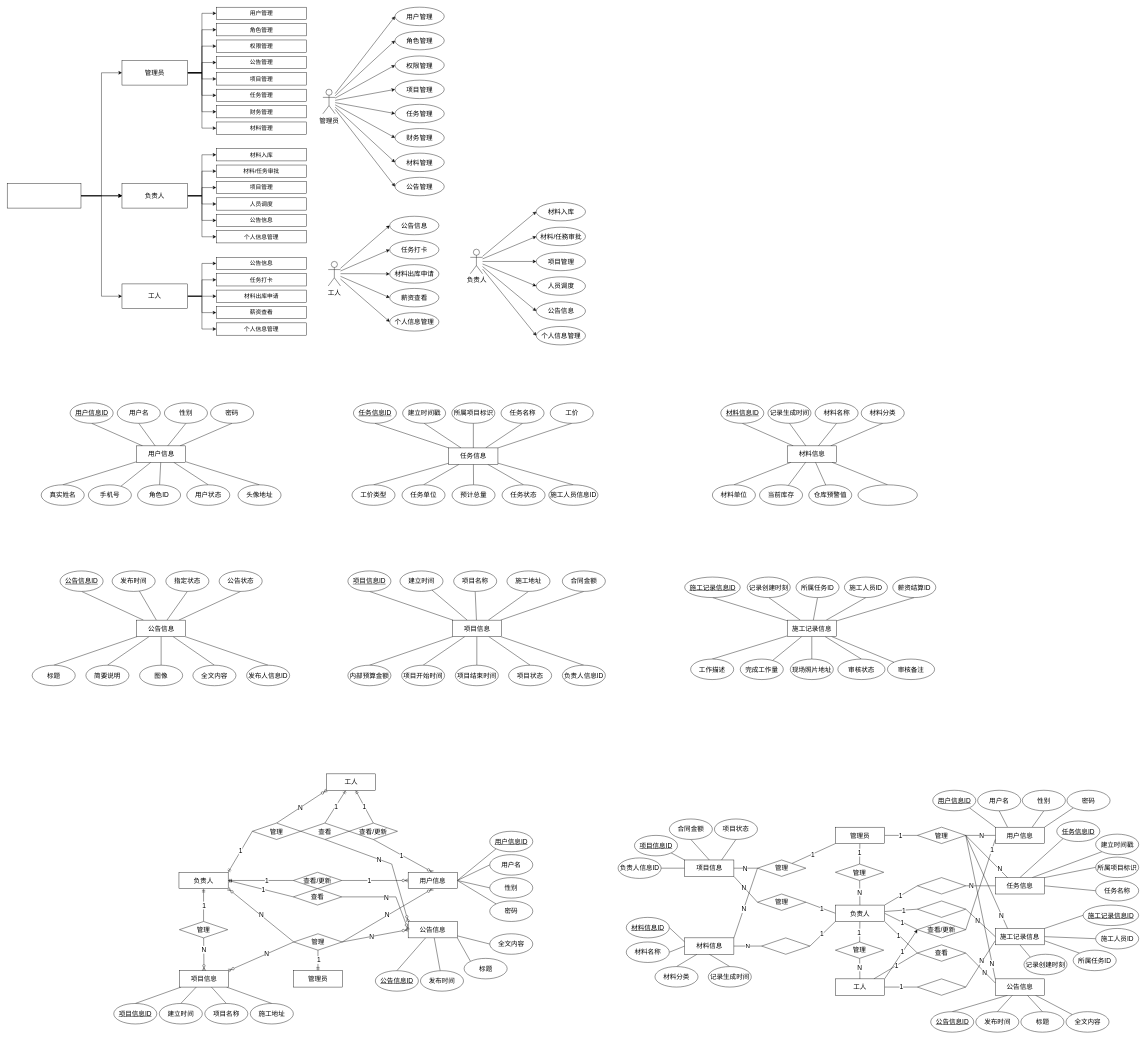
This 1146x1039 diagram has some shape labels left out. The centre of each missing label's shape, as x and y in pixels:
"供应商产品信息ID" belongs at point 887,494.
"创建/派发" belongs at point 941,885.
"打卡" belongs at point 941,986.
"查看/入库" belongs at point 785,945.
"查看/审批" belongs at point 941,909.
"装修项目管理系统" belongs at point 44,195.
